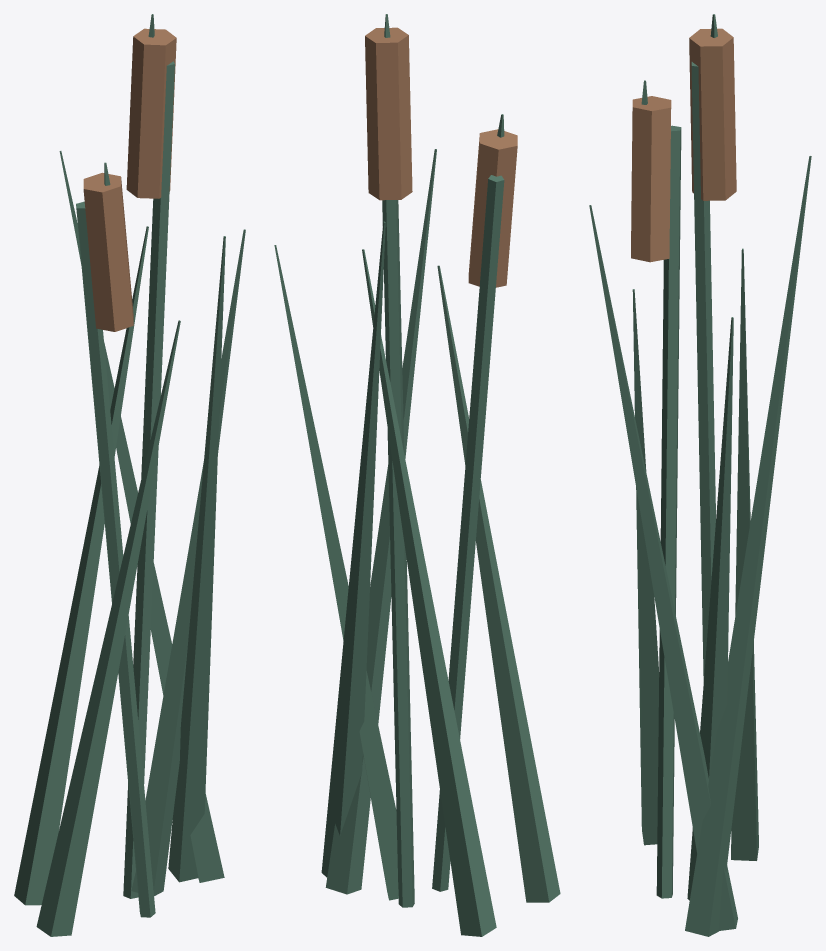
File: reed-clump.glb
The picture shows the model from 3 angles, left to right: view 1: azimuth 30°, elevation 25°; view 2: azimuth 150°, elevation 25°; view 3: azimuth 270°, elevation 25°; orthographic projection. The views are drawn at different scales.
Parts seen in each view (by area): view 1: reed-clump; view 2: reed-clump; view 3: reed-clump.
Boxes of the visible parts, left/top/right/bottom form: reed-clump: left=14, top=14, right=245, bottom=936; reed-clump: left=274, top=14, right=560, bottom=936; reed-clump: left=589, top=14, right=811, bottom=936.
Bounding box in the file's own units: 0.2299 × 0.8 × 0.1796.
